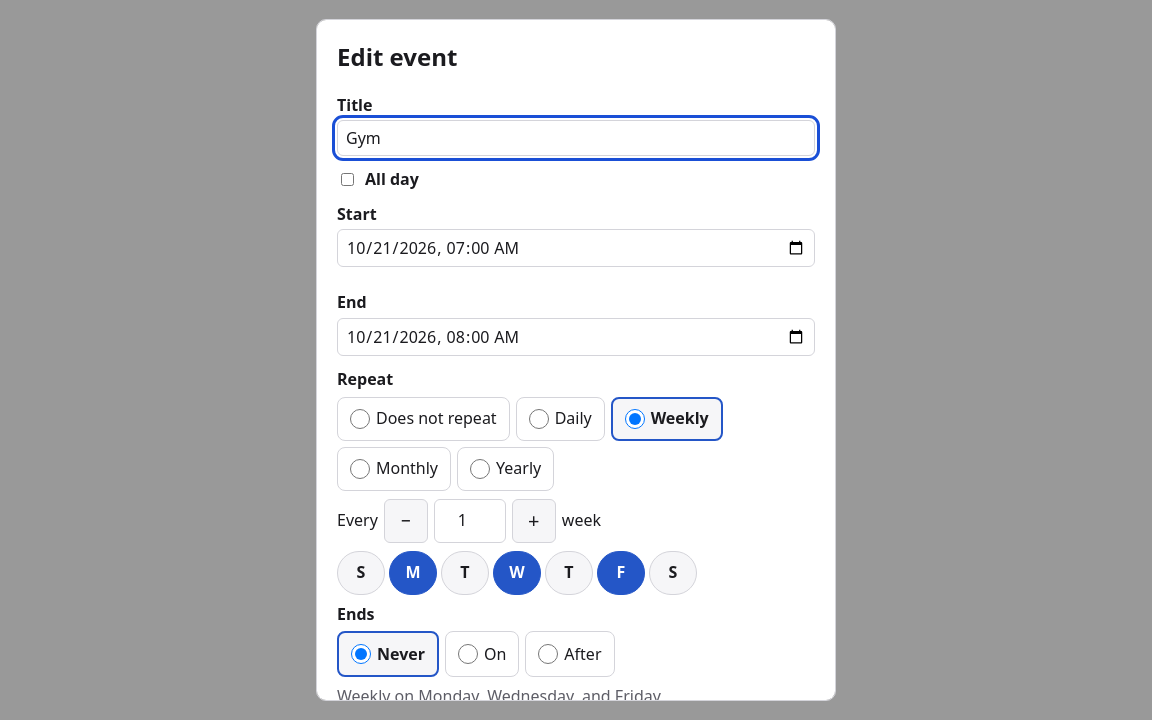
Test case: EventFormDialog (series edits, US3) › returns to the form with the edits kept on Cancel
The width and height of the screenshot is (1152, 720).
Replace the text in the field labelled "Title" with "Swim" at (576, 138), box x1=337 y1=120 x2=815 y2=156
(page scrolled)
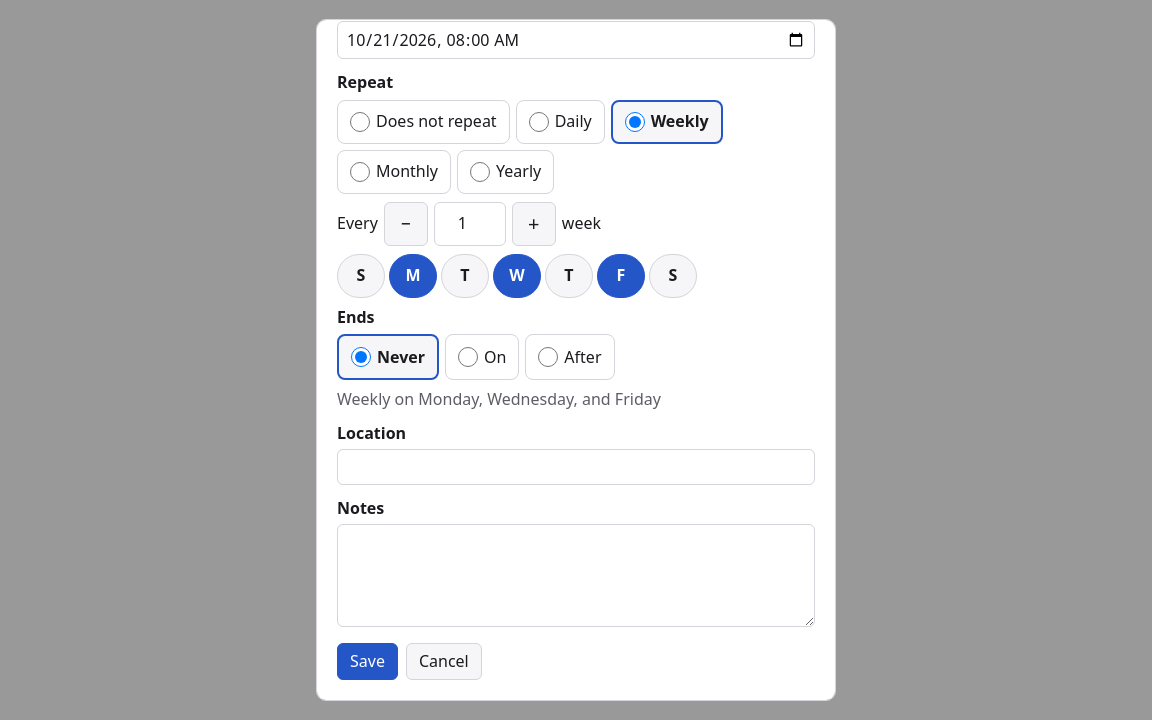
Click the button "Save" at (367, 661), box x1=337 y1=643 x2=398 y2=680
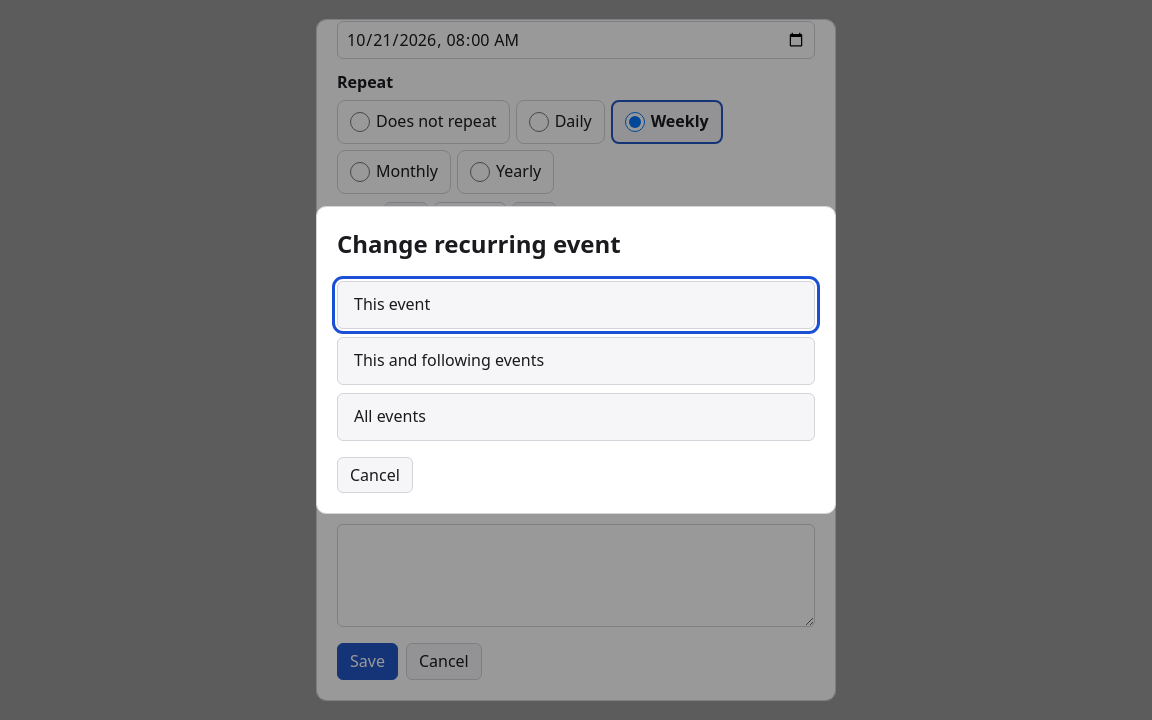
Click the button "Cancel" at (375, 475), box x1=337 y1=456 x2=413 y2=493
(page scrolled)
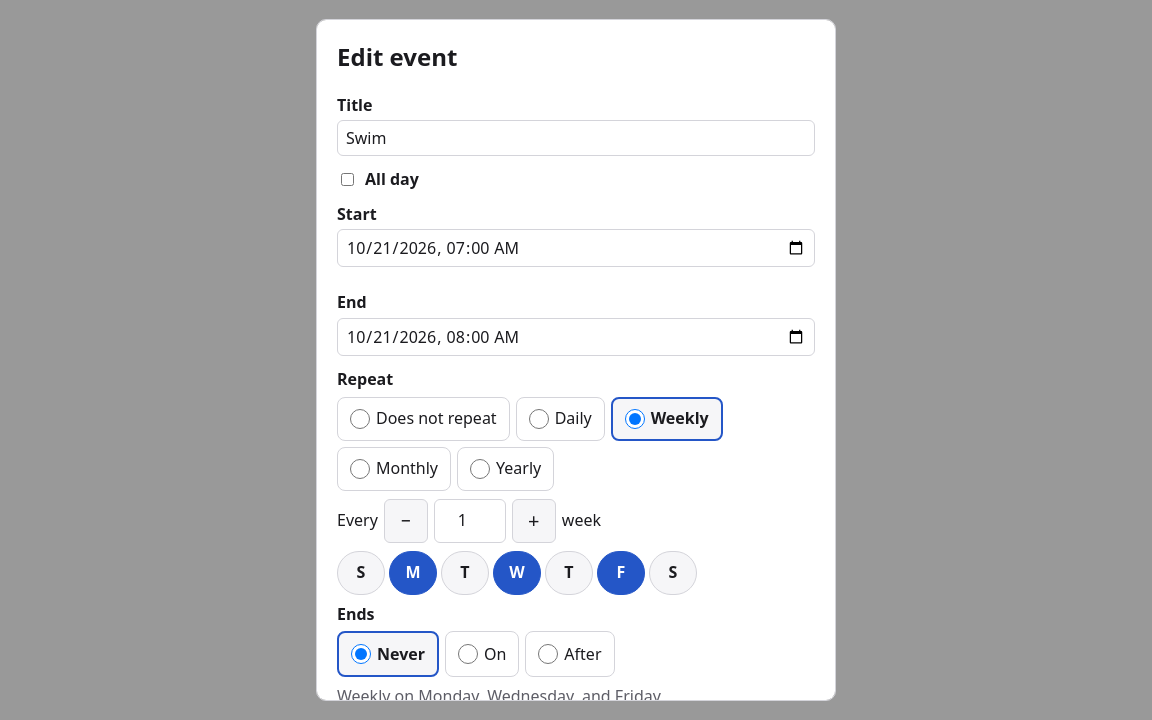
Expected: the heading "Change recurring event" is gone
